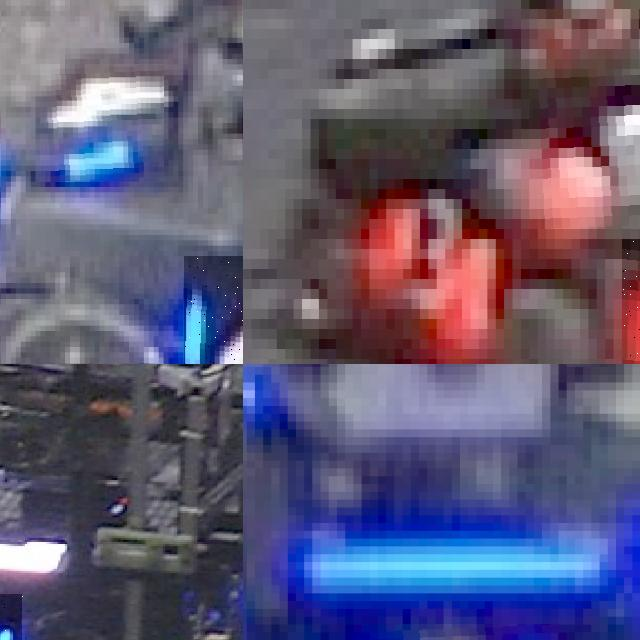B4: (40, 64, 164, 182), (183, 256, 243, 364)
R3: (529, 69, 640, 229), (378, 179, 487, 319)
